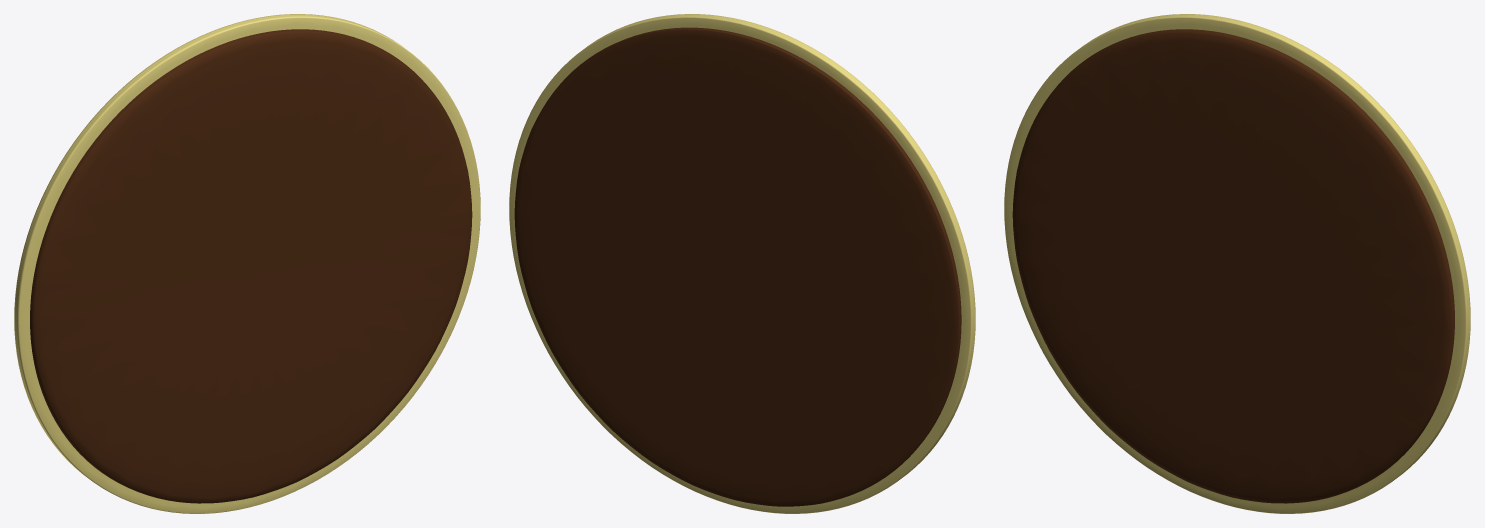
File: panel.glb
3 views of the same model, side by side, from view 1: azimuth 30°, elevation 25°; view 2: azimuth 150°, elevation 25°; view 3: azimuth 330°, elevation 25° (orthographic).
Visible parts, largest first — view 1: Cylinder.002; view 2: Cylinder.002; view 3: Cylinder.002.
Part boxes in pixels (x1=…): Cylinder.002: x1=14, y1=14, x2=480, y2=513; Cylinder.002: x1=509, y1=14, x2=975, y2=513; Cylinder.002: x1=1004, y1=14, x2=1470, y2=513.
Bounding box in the file's own units: 0.0376 × 0.0376 × 0.00228.
